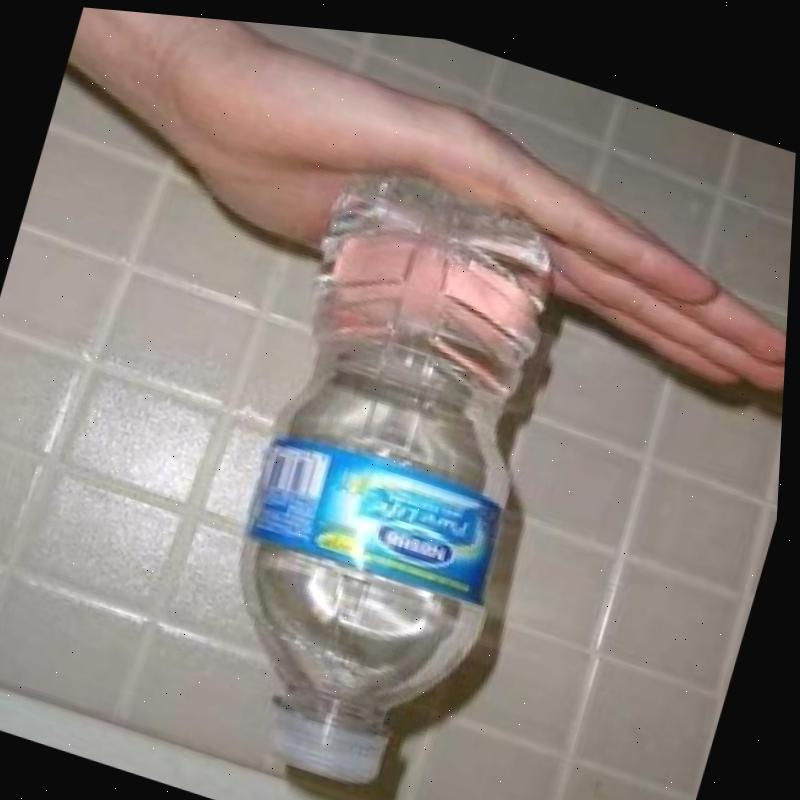botella: (191, 142, 596, 800)
